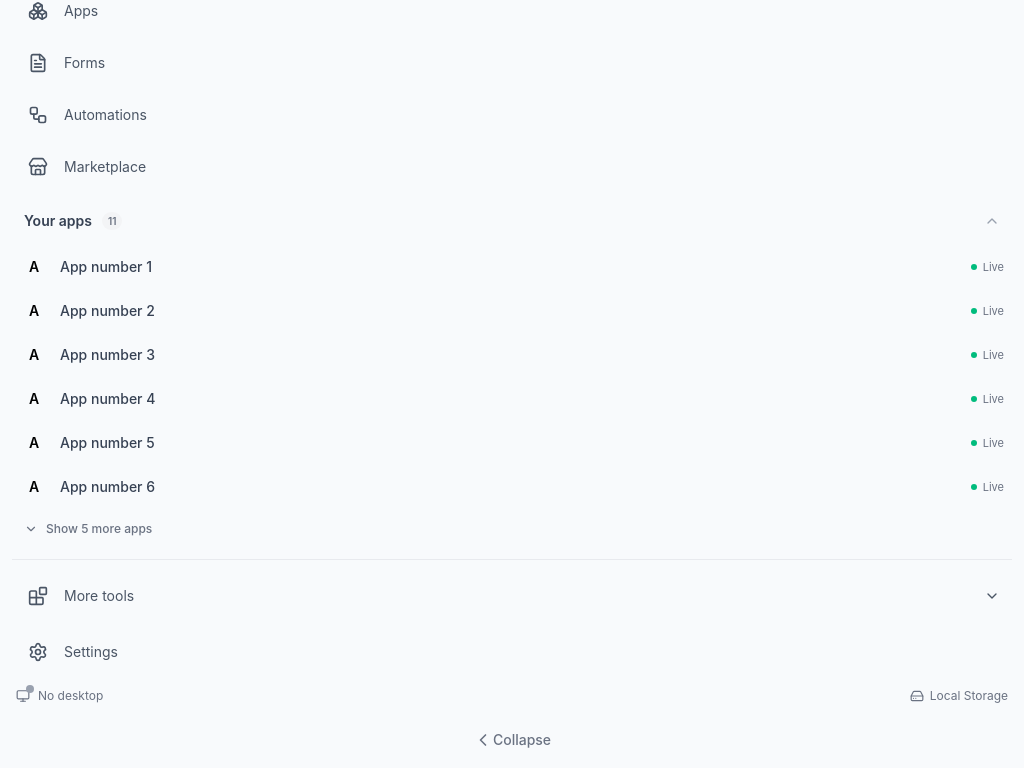
Scenario: Sidebar (app-first) › with many apps › lists the first six, and the rest after "Show 5 more apps"
The image size is (1024, 768).
Later steps or results of the test are not shown.
(page scrolled)
Click the button "Show 5 more apps" at (99, 528), box [12,511,1012,547]
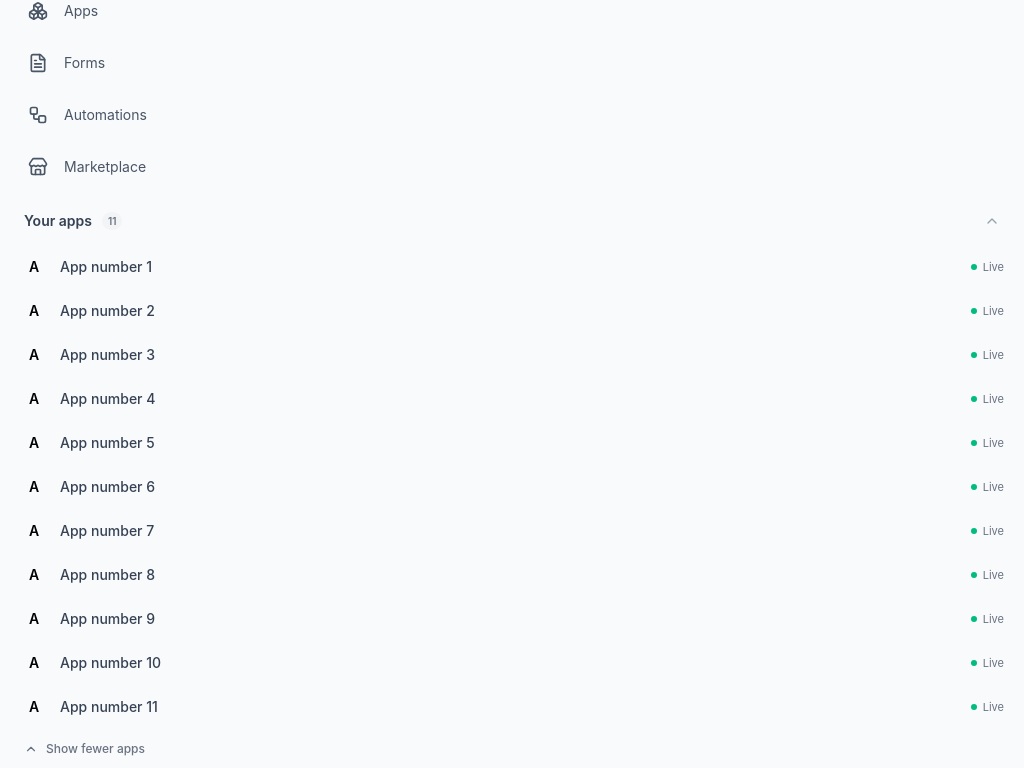
Now the button "Show fewer apps" is shown, box [12,731,1012,767]
